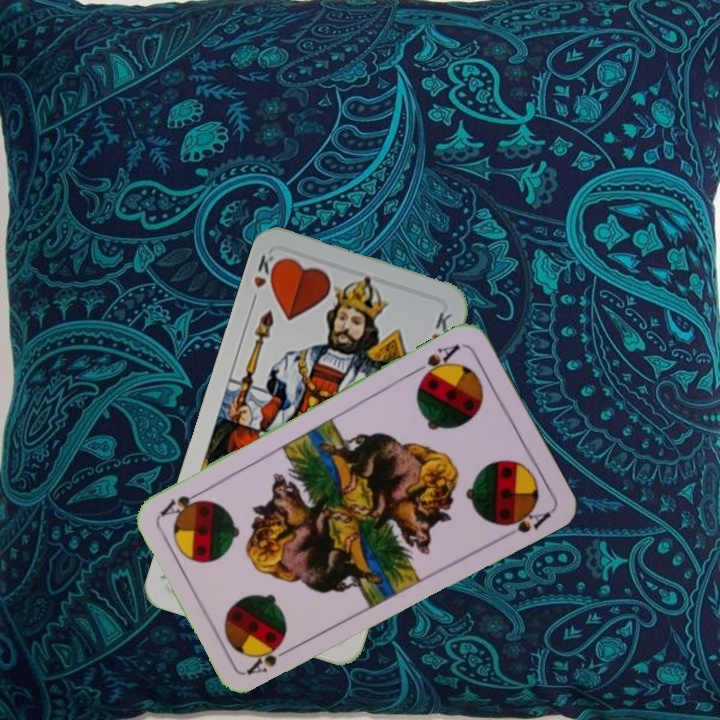HK: (247, 250, 283, 307)
SA: (410, 339, 463, 383), (242, 638, 298, 677)
